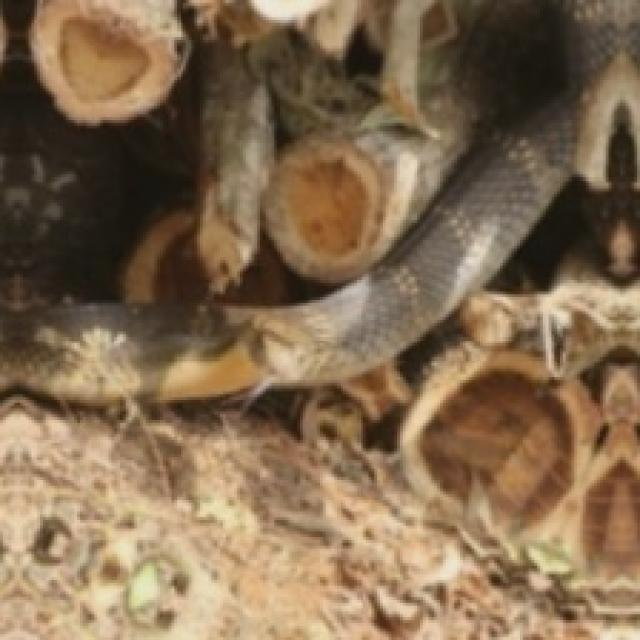king cobra: (0, 1, 640, 404)
